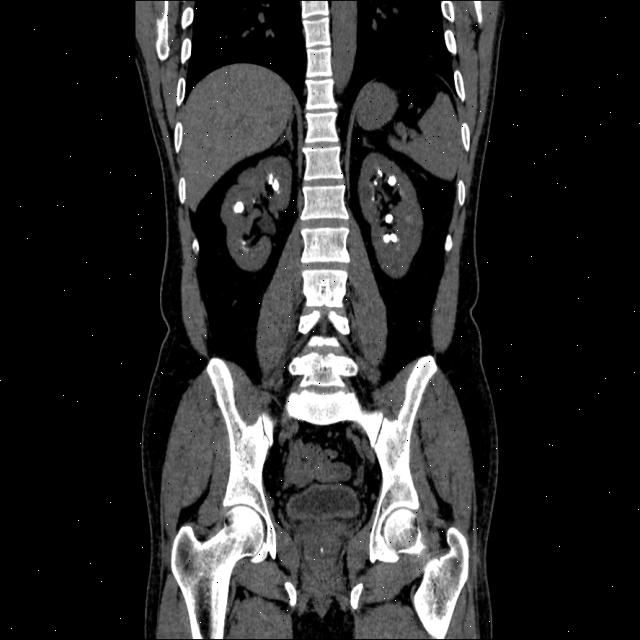kidneystone: (268, 173, 280, 191), (382, 233, 399, 243), (234, 201, 245, 214), (385, 213, 394, 223), (389, 174, 392, 186)
